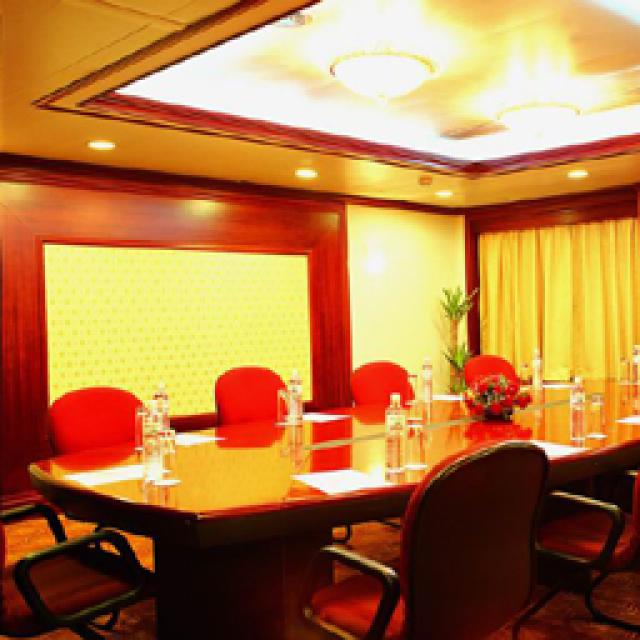bottle crop: (145, 428, 175, 478), (582, 390, 605, 435), (378, 390, 402, 432), (565, 375, 580, 438), (285, 368, 302, 420), (415, 355, 430, 402), (528, 345, 542, 385)
bouquet: (465, 370, 528, 418)
ceiling lamps: (325, 50, 430, 98), (495, 102, 580, 140), (80, 138, 110, 150), (290, 162, 315, 175), (562, 165, 585, 178), (430, 188, 455, 198)
chair: (45, 382, 155, 452), (208, 362, 295, 425), (348, 358, 415, 402), (460, 350, 525, 390)
chair -occluded-: (295, 438, 545, 635), (0, 495, 158, 632)
conference table: (28, 382, 635, 638)
curtain crop: (475, 215, 635, 380)
paper cup with straws: (285, 465, 398, 495), (55, 458, 170, 485)
plant -x: (438, 282, 478, 388)
